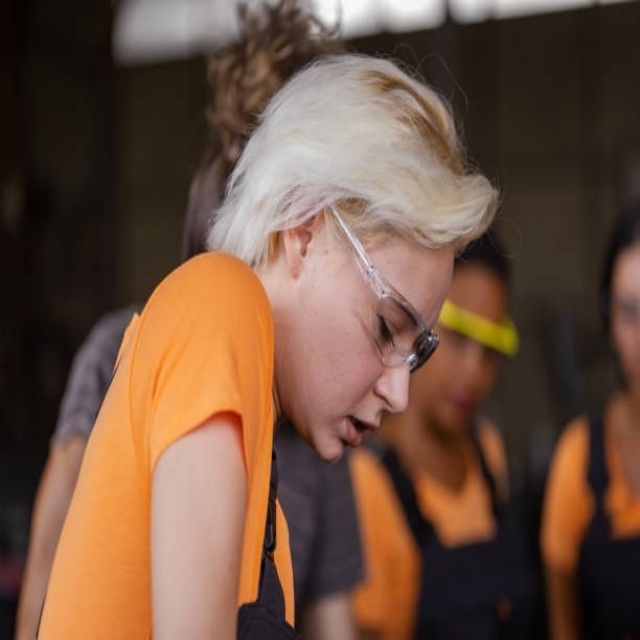Gafas: (332, 201, 439, 378)
Sin_mascara: (320, 384, 385, 471)
